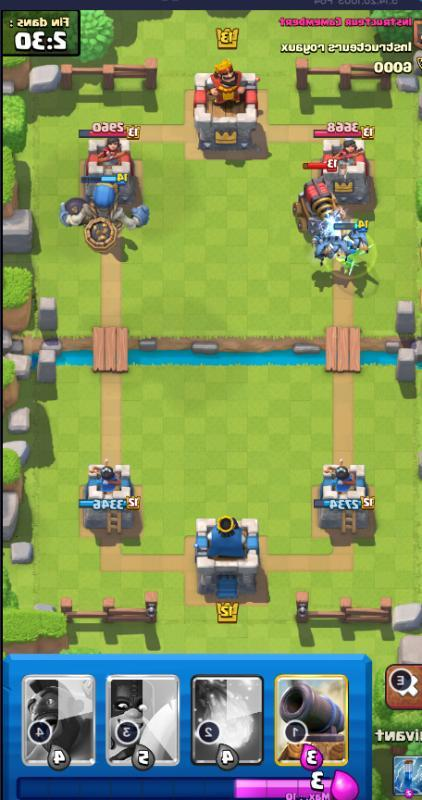enemy_sparky: (288, 170, 341, 227)
player_giant_skeleton: (56, 178, 151, 254)
player_minions: (309, 225, 341, 261), (340, 221, 373, 254)
